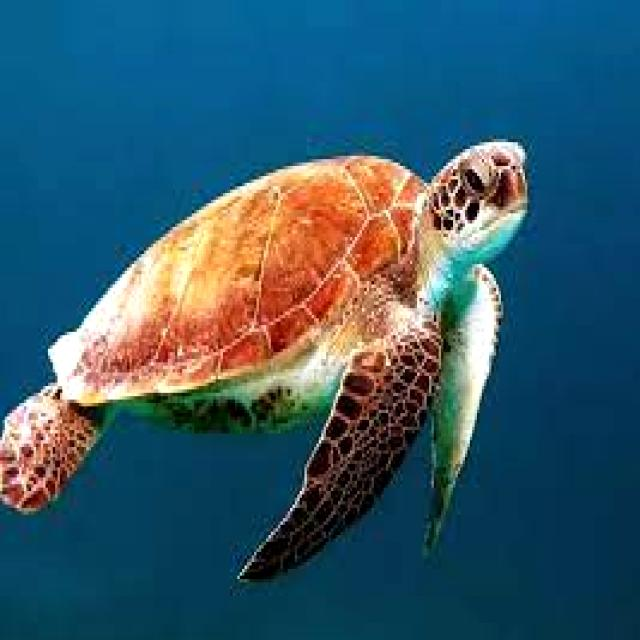Sea turtle: (0, 98, 547, 589)
